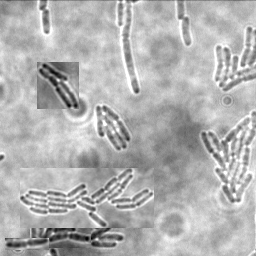Dividing: (123, 1, 142, 95), (5, 238, 49, 250), (41, 8, 52, 35)
Microcolony: (20, 168, 154, 228), (200, 109, 255, 205), (212, 25, 255, 94), (30, 212, 91, 248), (37, 62, 79, 109), (96, 103, 132, 150), (182, 16, 193, 48)
